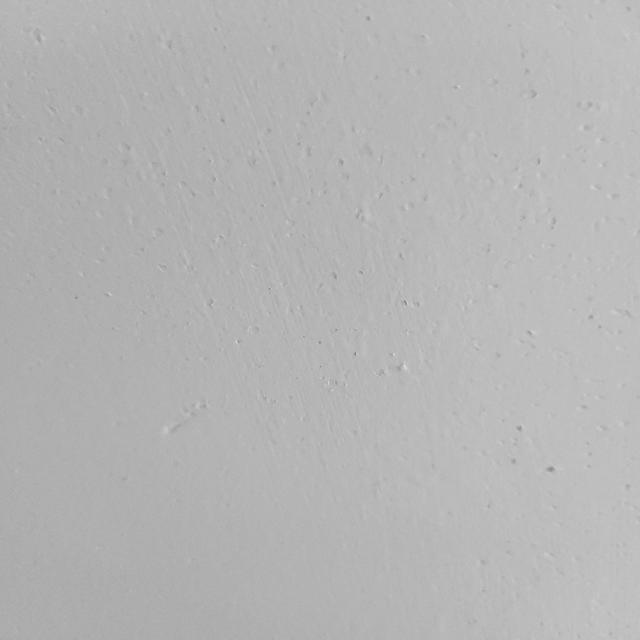rough and patchy surface: (145, 3, 624, 494), (0, 1, 146, 314)
